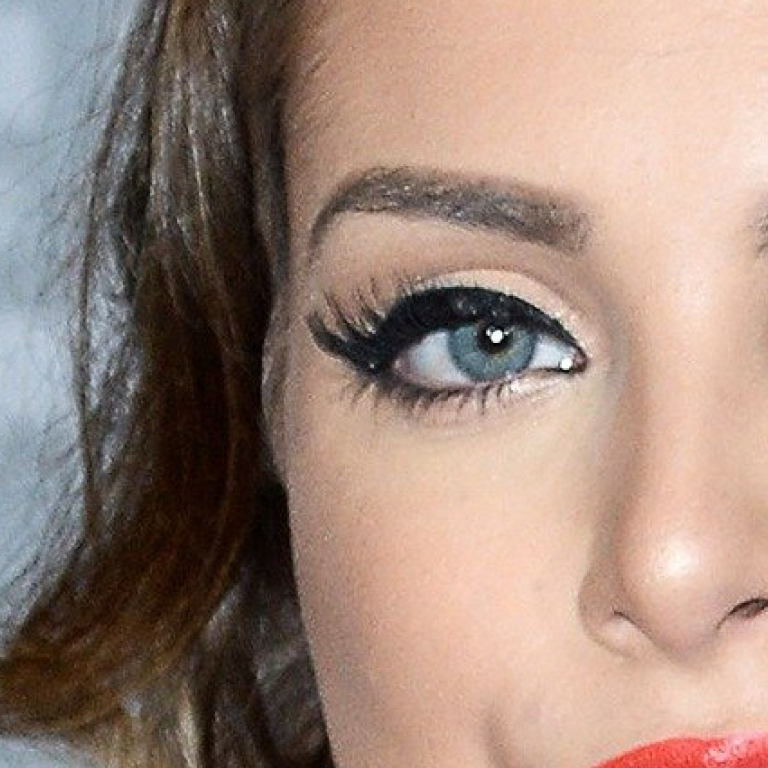iris: (448, 322, 537, 382)
pupil: (475, 322, 514, 356)
sclera: (390, 330, 473, 387), (529, 332, 586, 371)
